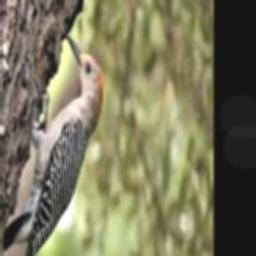Woodpecker: (2, 33, 103, 256)
